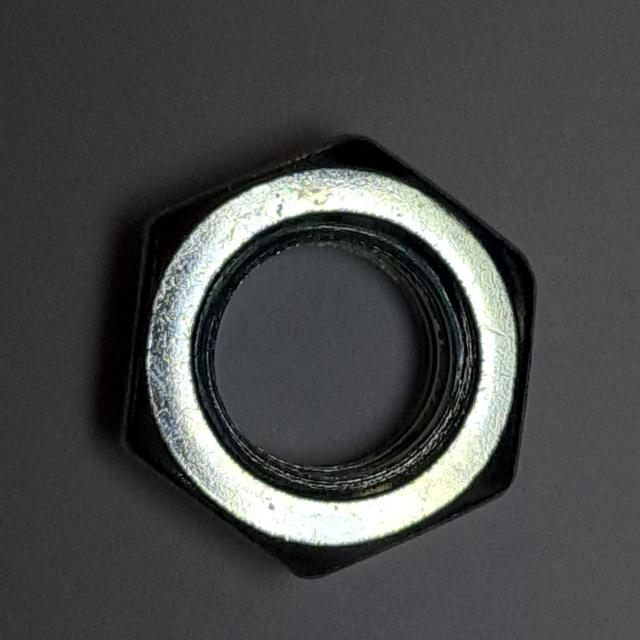Excellent: (106, 124, 550, 594)
